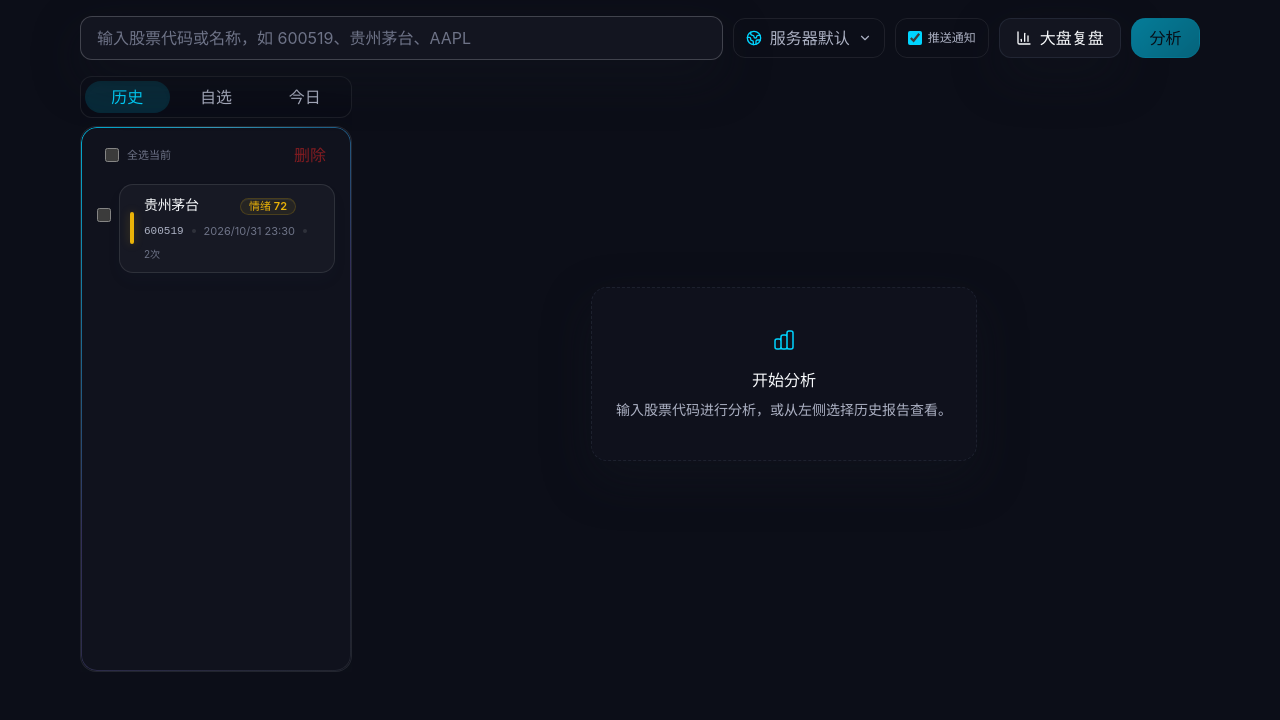
Test: HomePage › treats timezone-less stock-bar timestamps as Shanghai local time for watchlist pending state
The image size is (1280, 720).
Click the button "自选".
click(216, 97)  # box [174,81,258,113]
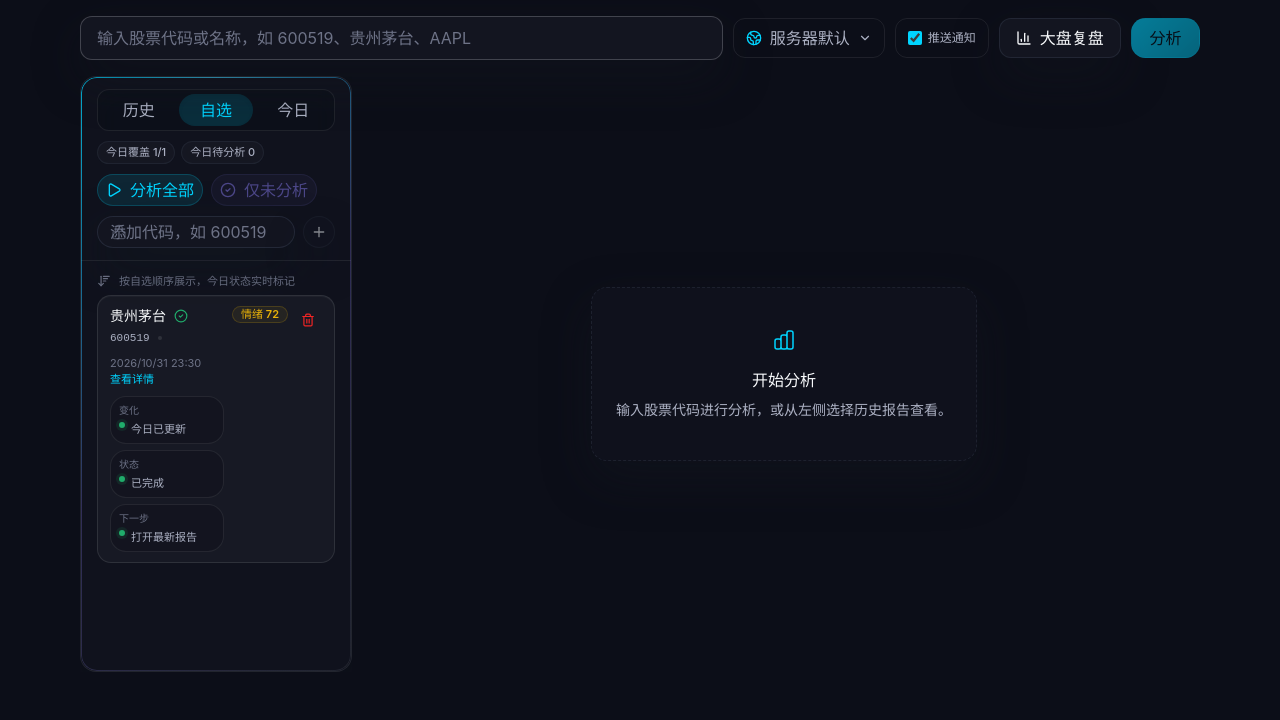
Expected: the icon named "今日已分析" is shown, [174,309,188,323]
Expected: the button "仅未分析" is disabled, [211,174,317,206]
